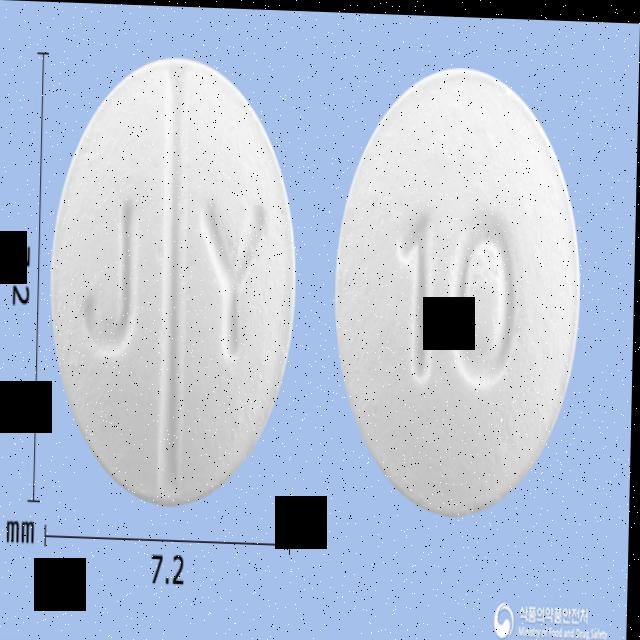Ciprobay: (332, 59, 587, 517), (48, 53, 301, 508)
